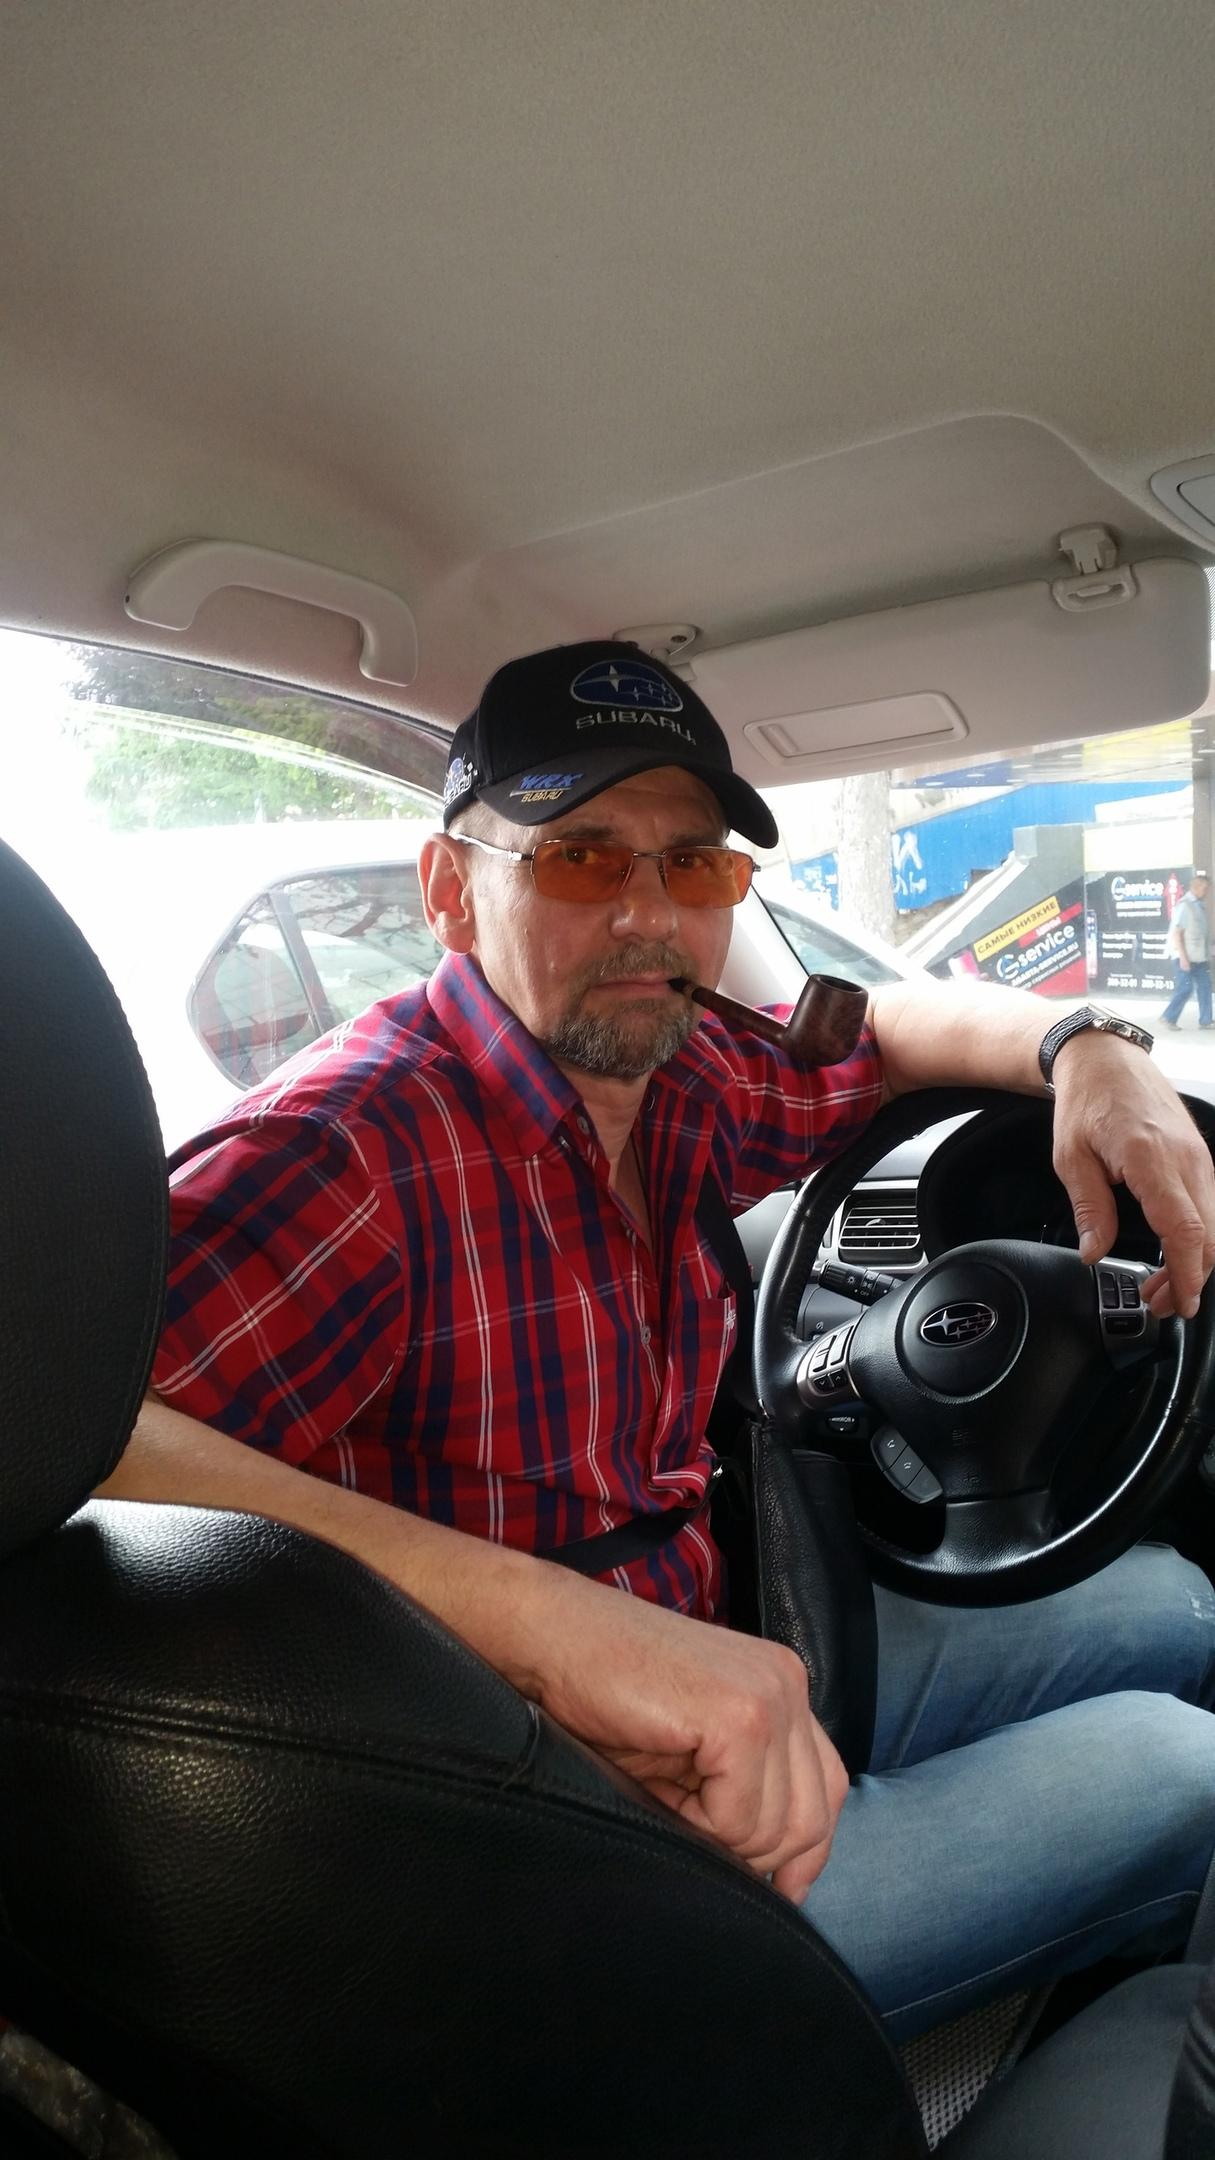trubka: (669, 973, 871, 1068)
